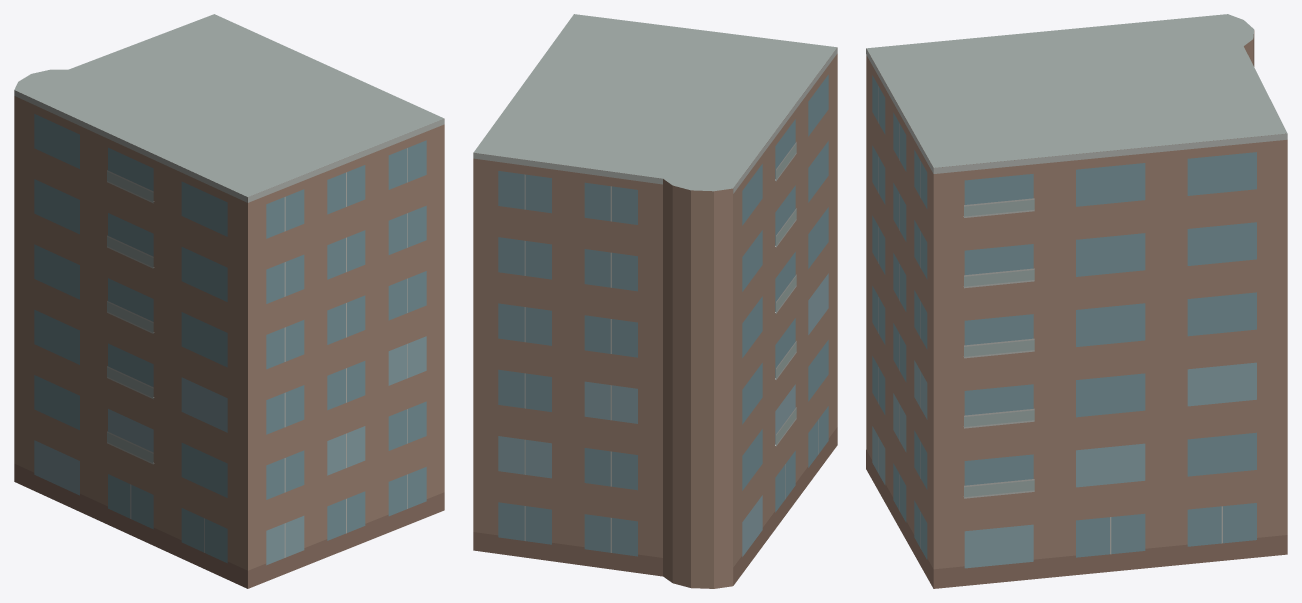
The model's file is survey-upis-32902911.glb.
3 renders of one model, left to right at view 1: azimuth 30°, elevation 25°; view 2: azimuth 150°, elevation 25°; view 3: azimuth 270°, elevation 25°, orthographic. The views are drawn at different scales.
Visible parts, largest first — view 1: survey-upis-32902911.tmp; view 2: survey-upis-32902911.tmp; view 3: survey-upis-32902911.tmp.
Boxes of the visible parts, bbox=[...] form: survey-upis-32902911.tmp: bbox=[14, 14, 444, 588]; survey-upis-32902911.tmp: bbox=[473, 14, 837, 588]; survey-upis-32902911.tmp: bbox=[866, 14, 1287, 588].
Bounding box in the file's own units: 13.03 × 16.6 × 15.07.
